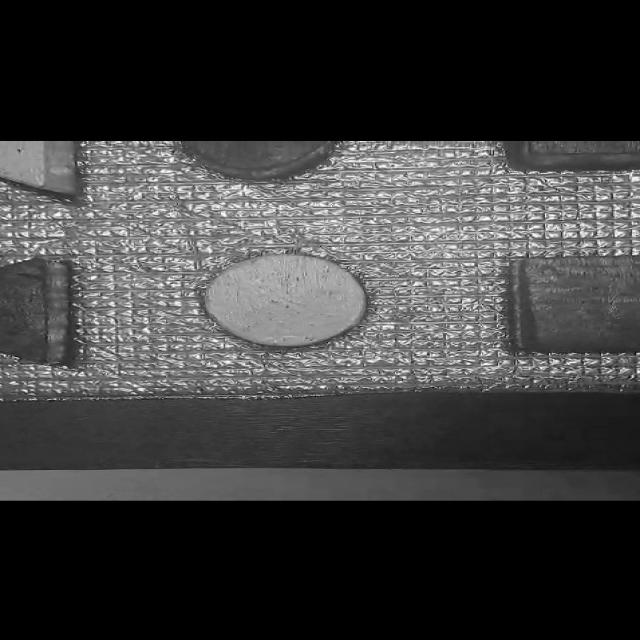rcube: (490, 242, 640, 360)
ycircle: (192, 243, 386, 357)
